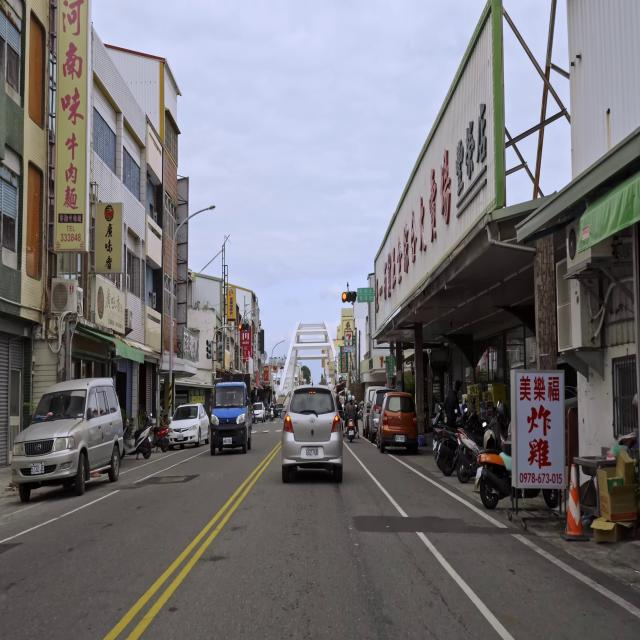red light: (342, 292, 357, 301), (238, 323, 250, 330)
